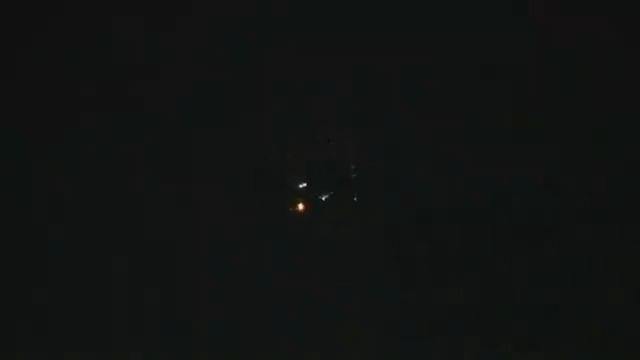Plane: (255, 169, 352, 226)
